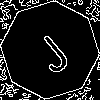J: (25, 25, 74, 77)
